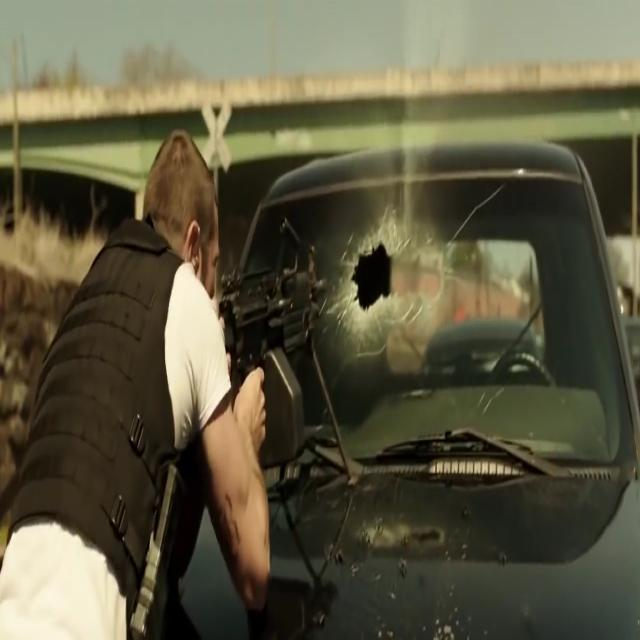Weapon: (208, 269, 358, 461)
